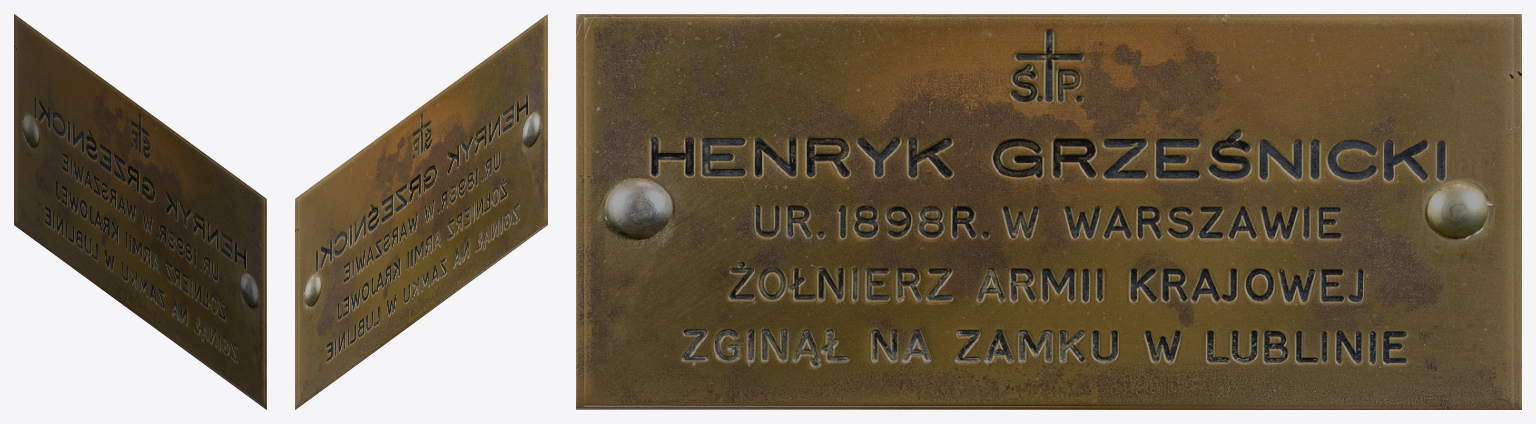
File: 23. Ś.P. HENRYK GRZEŚNICKI.glb
The picture shows the model from 3 angles, left to right: view 1: azimuth 30°, elevation 25°; view 2: azimuth 150°, elevation 25°; view 3: azimuth 270°, elevation 25°; orthographic projection. The views are drawn at different scales.
Visible parts, largest first — view 1: Plane; view 2: Plane; view 3: Plane.
Boxes of the visible parts, x1,y1,x2,y2 form: Plane: (14, 14, 266, 409); Plane: (295, 14, 547, 409); Plane: (576, 14, 1521, 409).
Bounding box in the file's own units: 0.0246 × 6 × 13.
Materials: 1 (1 with a texture image).
